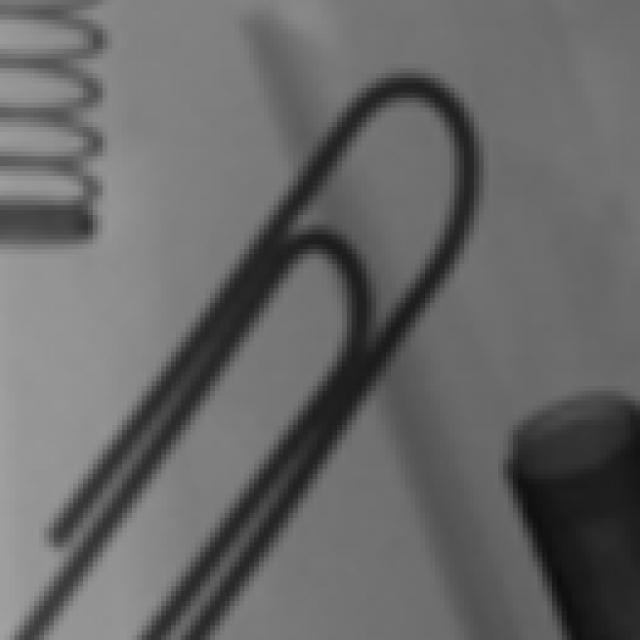BLADE: (537, 382, 627, 635)
